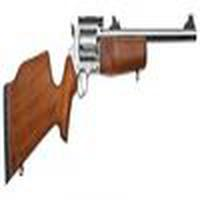gun: (3, 18, 200, 186)
